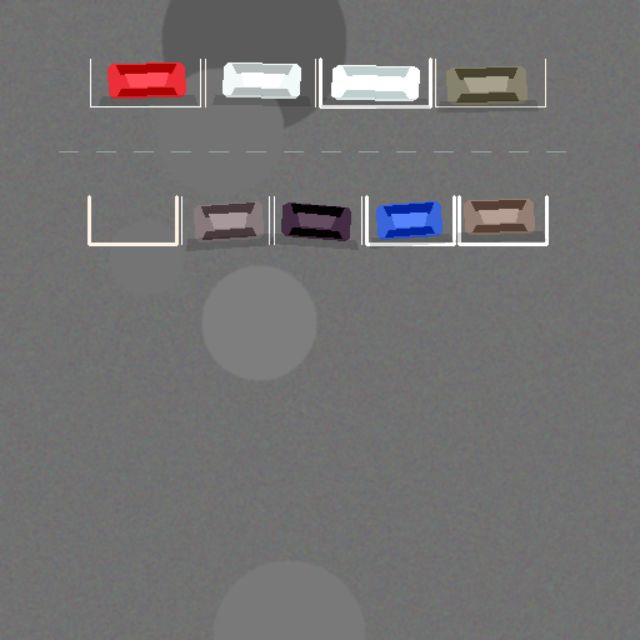space-empty: (89, 196, 176, 244)
space-occupied: (90, 59, 200, 106), (205, 59, 315, 106), (320, 59, 430, 106), (435, 59, 545, 106), (181, 196, 269, 244), (366, 196, 454, 244), (274, 196, 361, 244), (459, 196, 546, 244)
